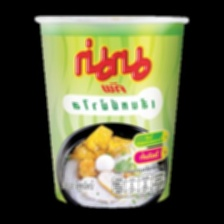paper_cup: (30, 9, 195, 212)
